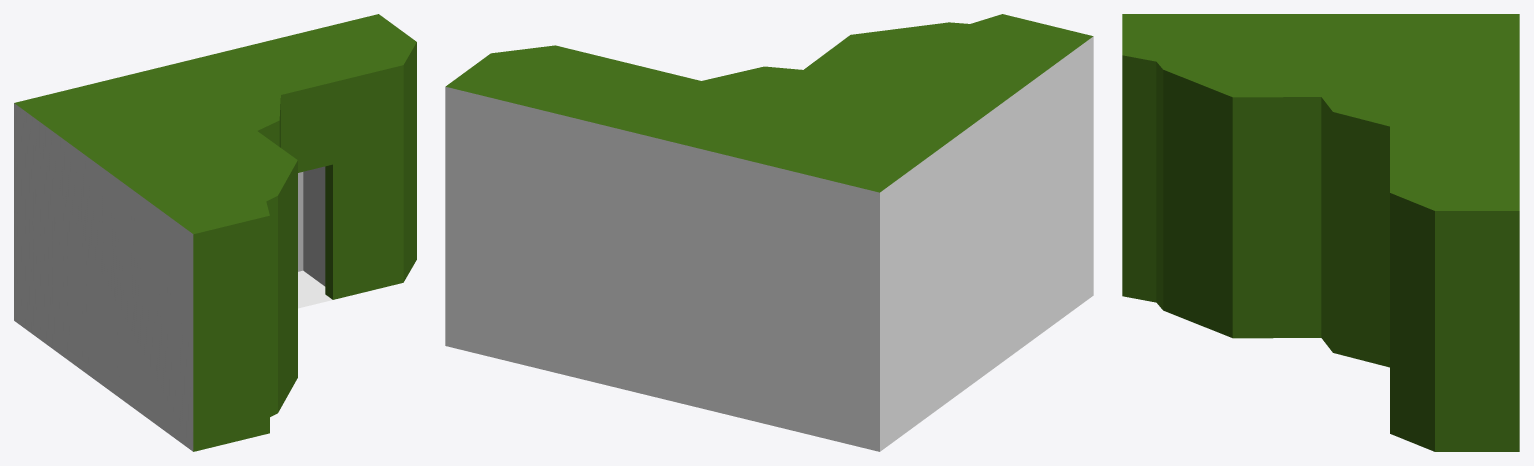
The model's file is A8 NW Mountain Cave.obj.
3 views of the same model, side by side, from view 1: azimuth 30°, elevation 25°; view 2: azimuth 150°, elevation 25°; view 3: azimuth 270°, elevation 25° (orthographic). The views are drawn at different scales.
Visible parts, largest first — view 1: Mesh1 A8_NW_Mountain1 A8_NW_Mountain_Cave1 Model, Mesh2 CaveEntrance1 A8_NW_Mountain_Cave1 Model; view 2: Mesh1 A8_NW_Mountain1 A8_NW_Mountain_Cave1 Model; view 3: Mesh1 A8_NW_Mountain1 A8_NW_Mountain_Cave1 Model.
Part boxes in pixels (bbox=[...]): Mesh1 A8_NW_Mountain1 A8_NW_Mountain_Cave1 Model: bbox=[14, 14, 416, 451]; Mesh2 CaveEntrance1 A8_NW_Mountain_Cave1 Model: bbox=[298, 166, 332, 308]; Mesh1 A8_NW_Mountain1 A8_NW_Mountain_Cave1 Model: bbox=[445, 14, 1093, 451]; Mesh1 A8_NW_Mountain1 A8_NW_Mountain_Cave1 Model: bbox=[1122, 14, 1519, 451].
Bounding box in the file's own units: 7.01 × 4 × 5.98.
